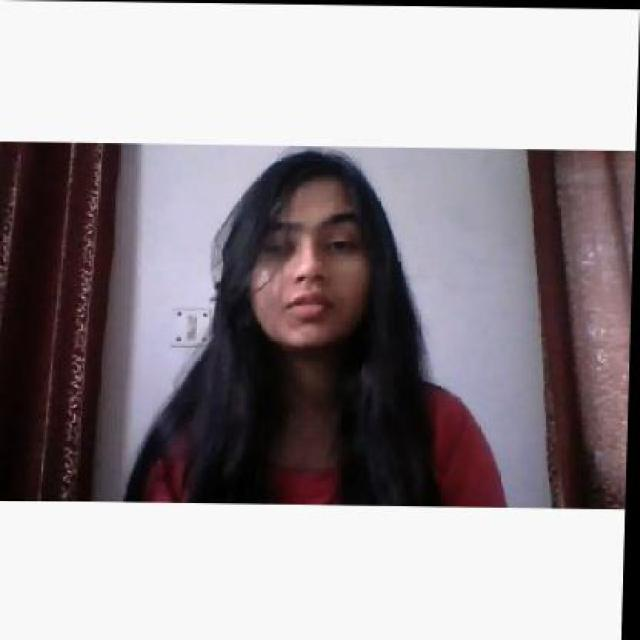attentif: (248, 148, 378, 346)
